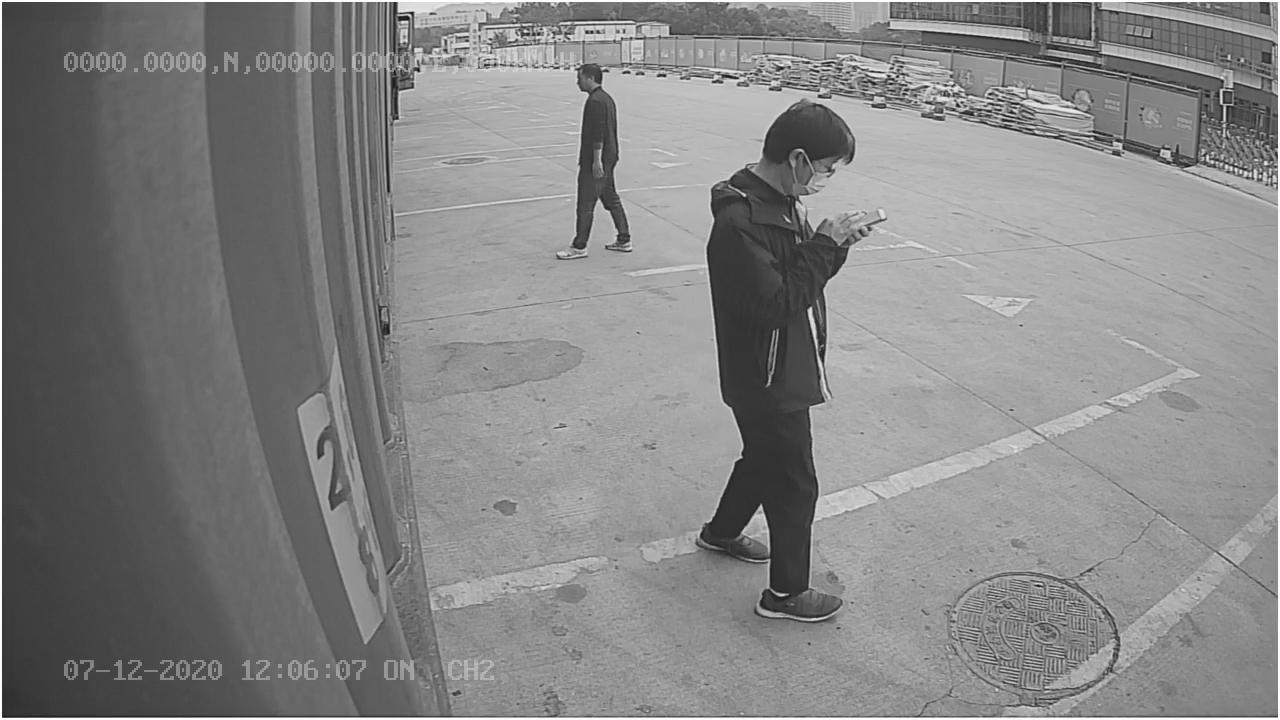person: (705, 94, 874, 629)
